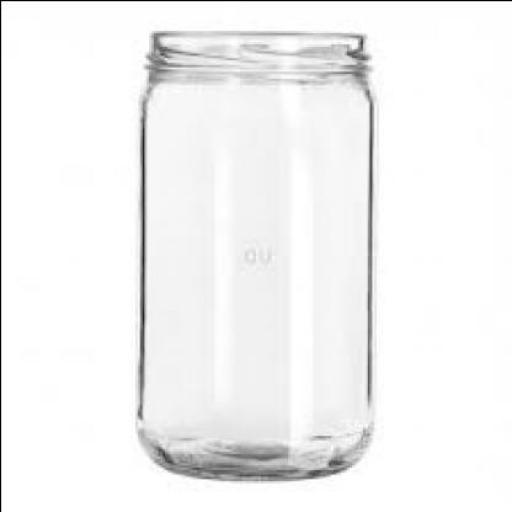glass: (136, 30, 376, 478)
